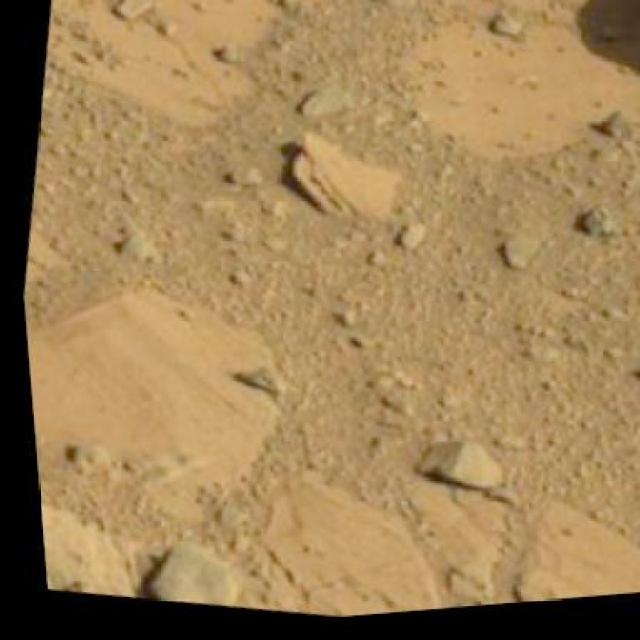rock: (278, 128, 418, 245), (112, 520, 240, 614)
